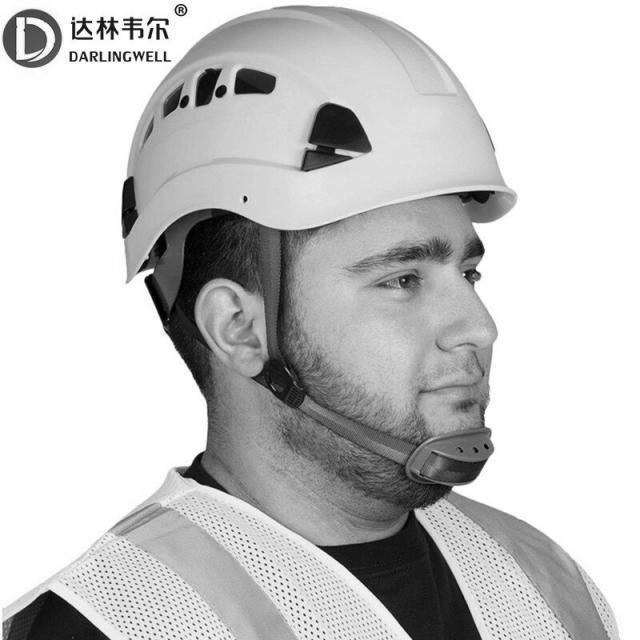safety_helmet: (120, 11, 518, 281)
